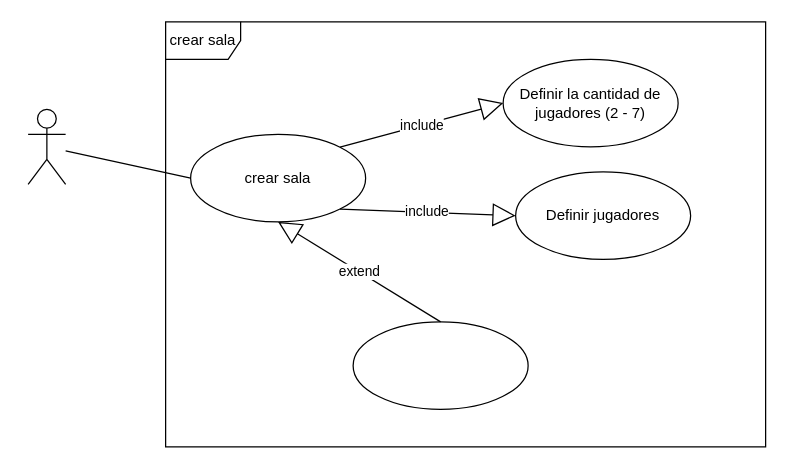
The diagram is 788 pixels wide and 469 high, and some of its shapes have lost their labels. Here are the shapes that lost their labels. From the top down, the centre of each, then its label:
At point 46,146: "Usuario".
At point 440,365: "Iniciar Juego".
